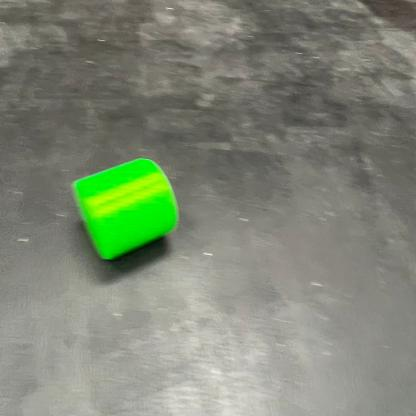green cylinder: (69, 152, 188, 267)
